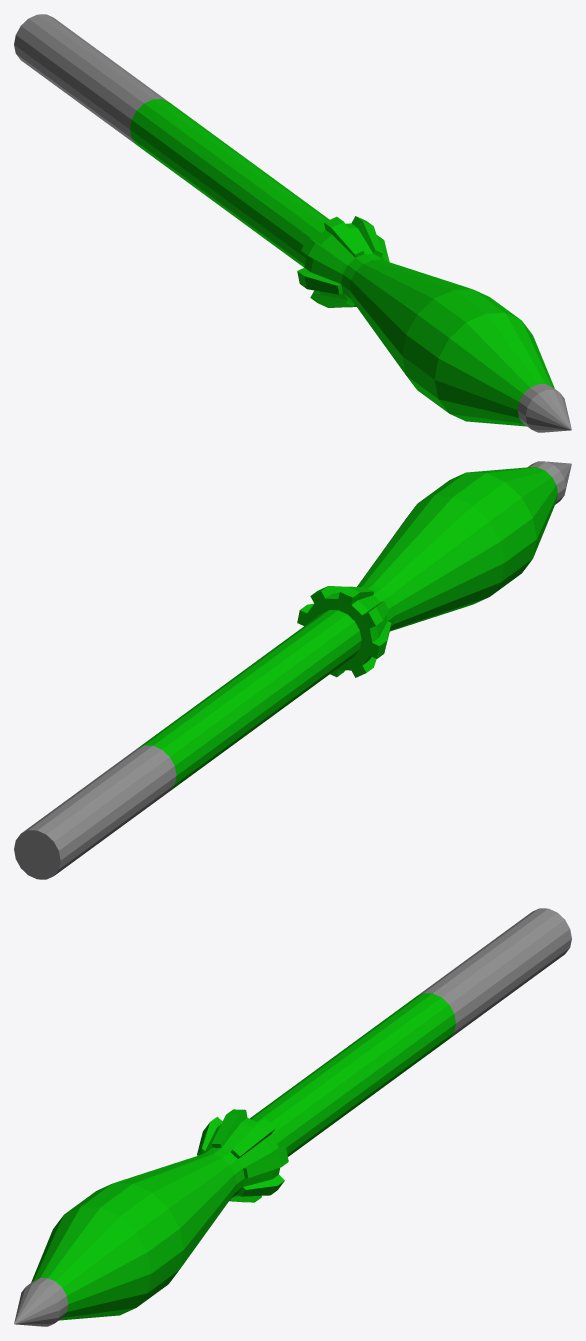
File: RPGM.fbx
The picture shows the model from 3 angles, top to bottom: view 1: azimuth 30°, elevation 25°; view 2: azimuth 150°, elevation 25°; view 3: azimuth 330°, elevation 25°; orthographic projection.
Visible parts, largest first — view 1: Cylinder2; view 2: Cylinder2; view 3: Cylinder2.
Boxes of the visible parts, x1,y1,x2,y2 form: Cylinder2: (14, 14, 571, 432); Cylinder2: (14, 461, 571, 879); Cylinder2: (14, 908, 571, 1326).
Bounding box in the file's own units: 219 × 219 × 1984.
